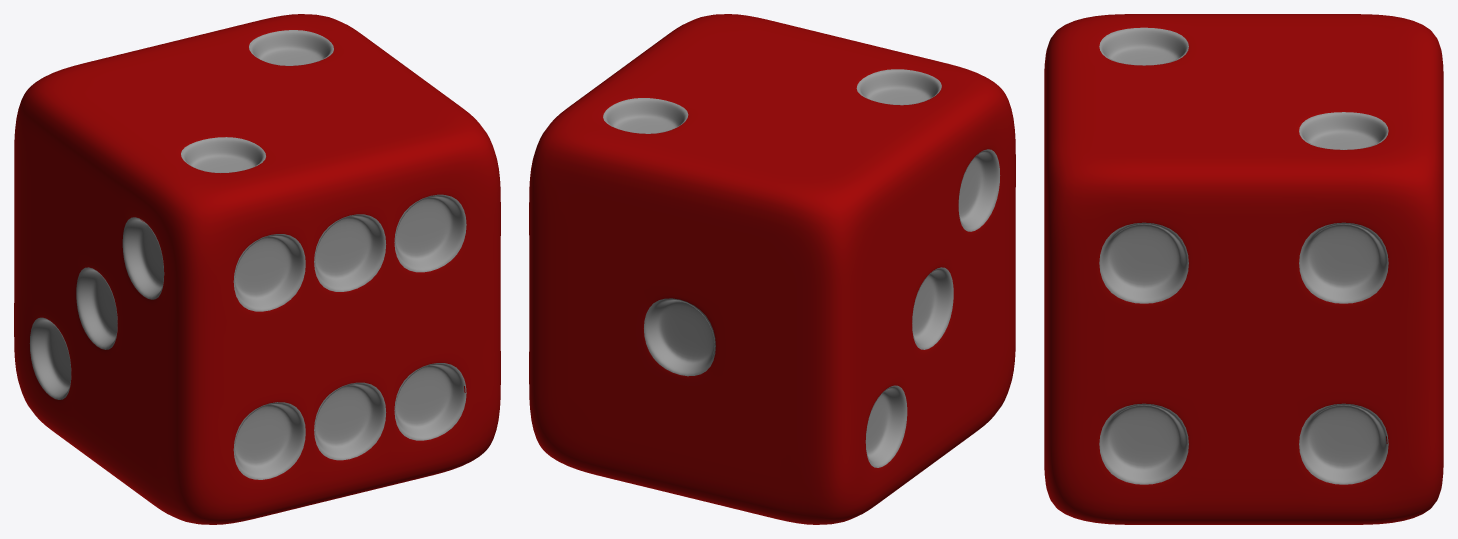
File: dice.obj
The picture shows the model from 3 angles, left to right: view 1: azimuth 30°, elevation 25°; view 2: azimuth 150°, elevation 25°; view 3: azimuth 270°, elevation 25°; orthographic projection. The views are drawn at different scales.
Parts seen in each view (by area): view 1: Cube_Material_0, Cube_Material.001_0; view 2: Cube_Material_0, Cube_Material.001_0; view 3: Cube_Material_0, Cube_Material.001_0.
Part boxes in pixels (bbox=[...]): Cube_Material_0: bbox=[14, 14, 500, 524]; Cube_Material.001_0: bbox=[29, 30, 466, 479]; Cube_Material_0: bbox=[529, 14, 1015, 524]; Cube_Material.001_0: bbox=[603, 69, 1000, 467]; Cube_Material_0: bbox=[1044, 14, 1443, 524]; Cube_Material.001_0: bbox=[1099, 27, 1388, 484].
Bounding box in the file's own units: 200 × 200 × 200.
